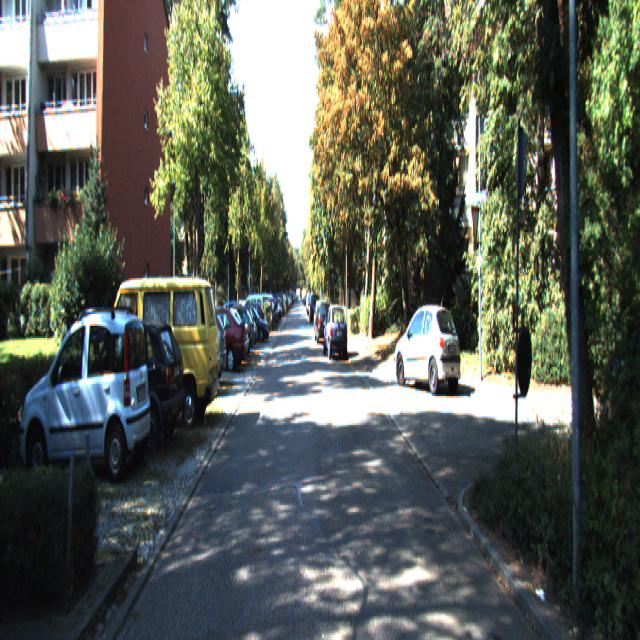Car: (21, 306, 152, 488), (105, 271, 220, 432), (71, 315, 186, 456), (395, 302, 463, 398), (190, 303, 248, 369), (323, 304, 348, 360), (314, 300, 332, 345)
